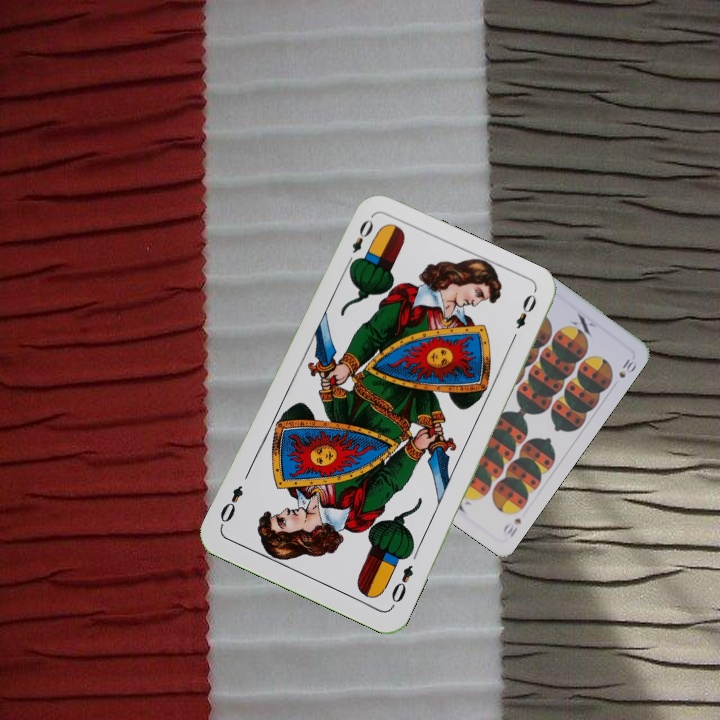EO: (342, 215, 376, 270), (387, 560, 416, 606)
S10: (499, 514, 524, 540)
